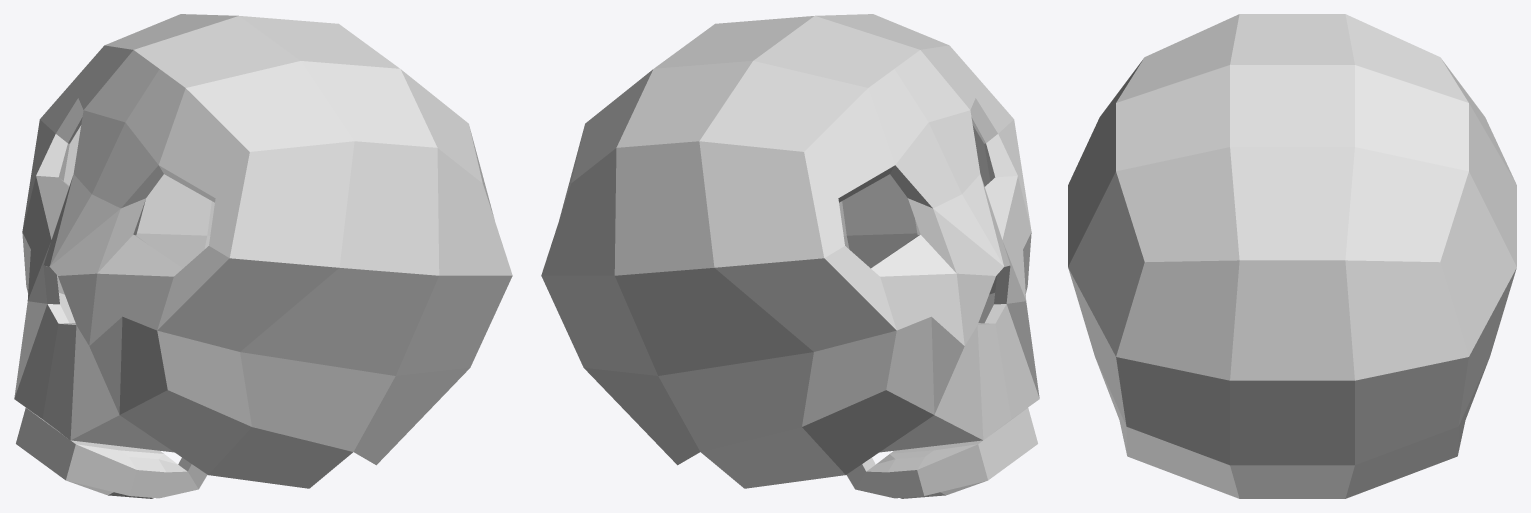
The model's file is Skeleton 1.fbx.
3 renders of one model, left to right at view 1: azimuth 30°, elevation 25°; view 2: azimuth 150°, elevation 25°; view 3: azimuth 270°, elevation 25°, orthographic.
Visible parts, largest first — view 1: Skeleton 1; view 2: Skeleton 1; view 3: Skeleton 1.
Part boxes in pixels (x1=…): Skeleton 1: x1=14, y1=14, x2=512, y2=498; Skeleton 1: x1=541, y1=14, x2=1039, y2=498; Skeleton 1: x1=1068, y1=14, x2=1516, y2=498.
Size of the model in its own units: 10.56 by 9.65 by 9.5.
